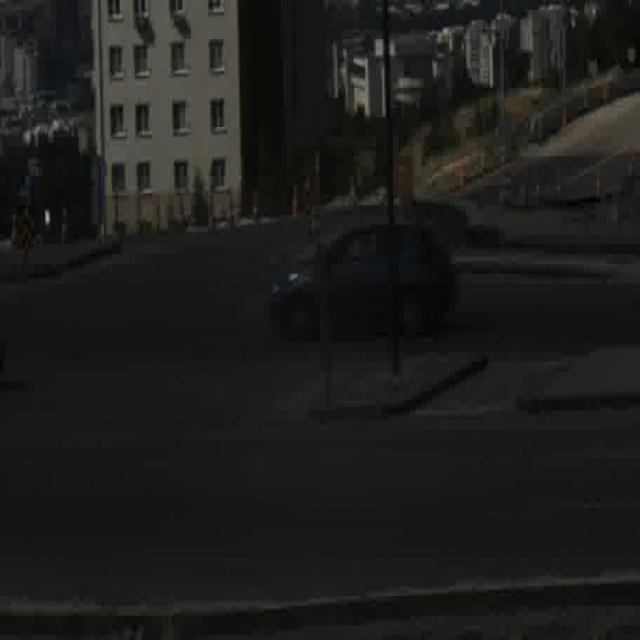Car: (267, 223, 459, 342)
